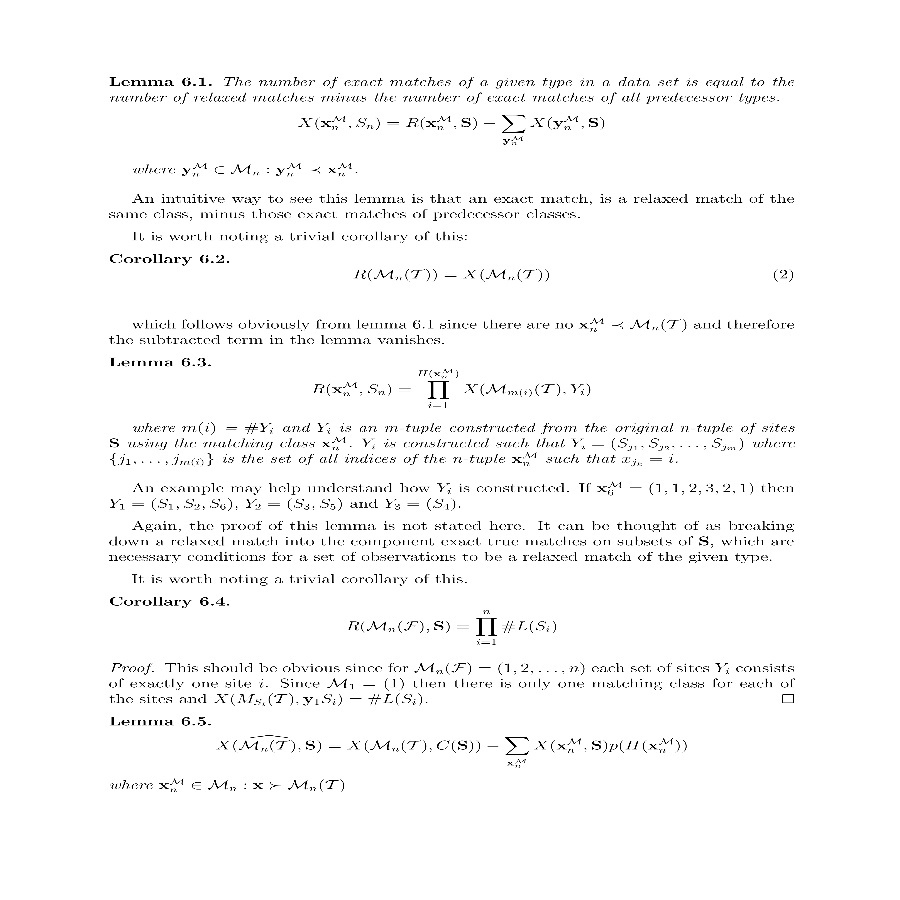eq: (214, 731, 694, 770), (310, 365, 599, 413), (296, 108, 610, 145), (344, 607, 564, 652), (346, 258, 555, 292)
